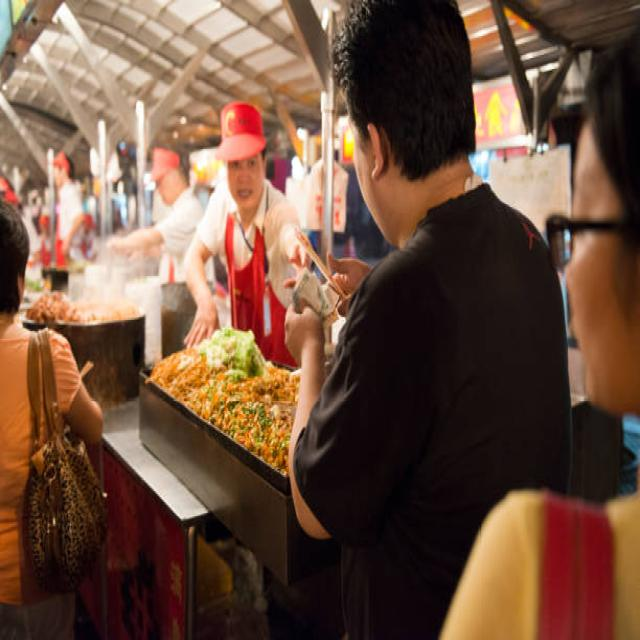Emperan: (30, 42, 519, 640)
